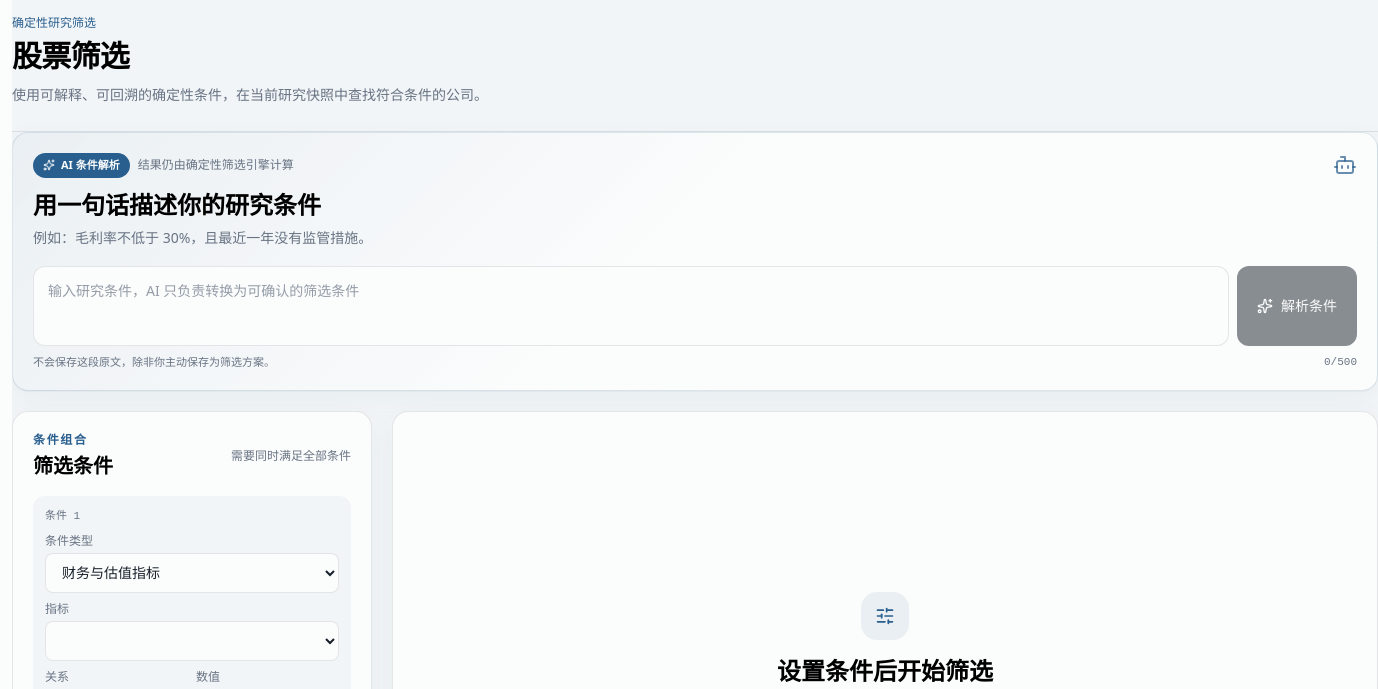
Test: ScreeningWorkspace › labels AI parsing separately and keeps the deterministic builder available
The width and height of the screenshot is (1378, 689).
In the text box named "自然语言筛选条件": coordinates (631, 306) [33,266,1229,346], type "毛利率不低于 30%"
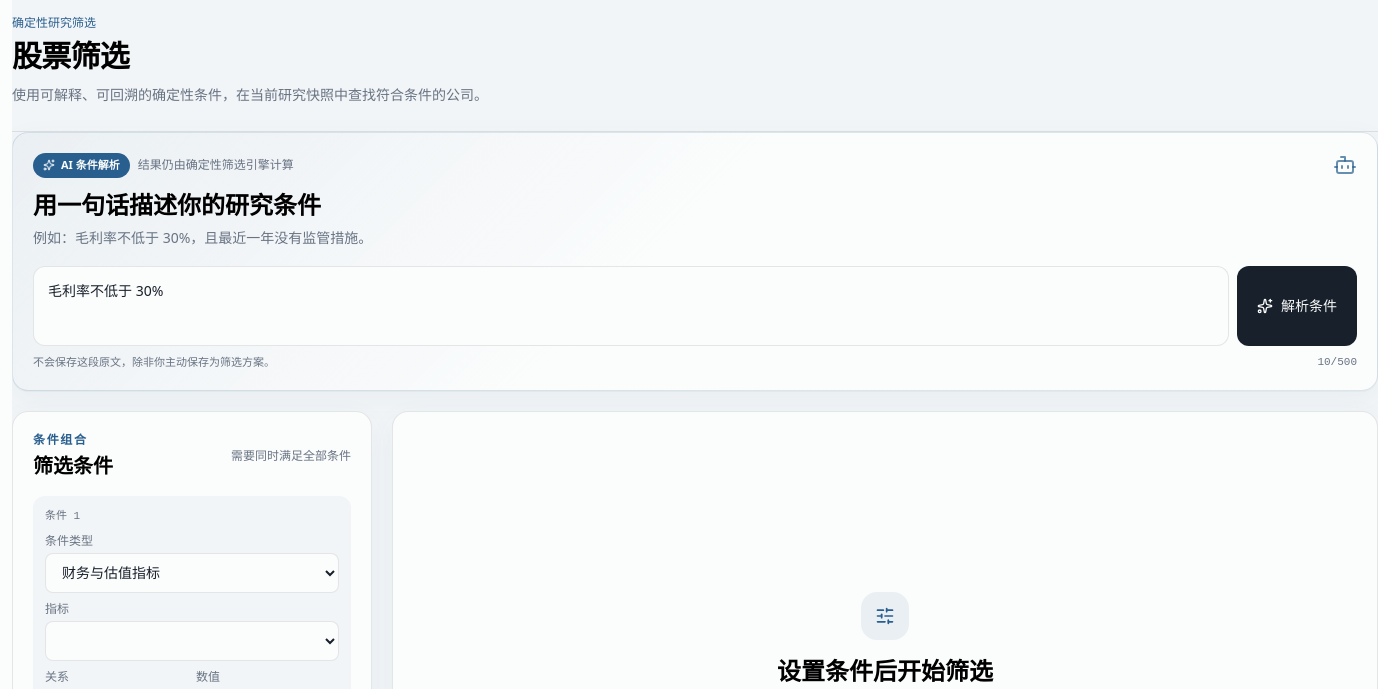
Click the button "解析条件": coordinates (1297, 306) [1237,266,1357,346]
(page scrolled)
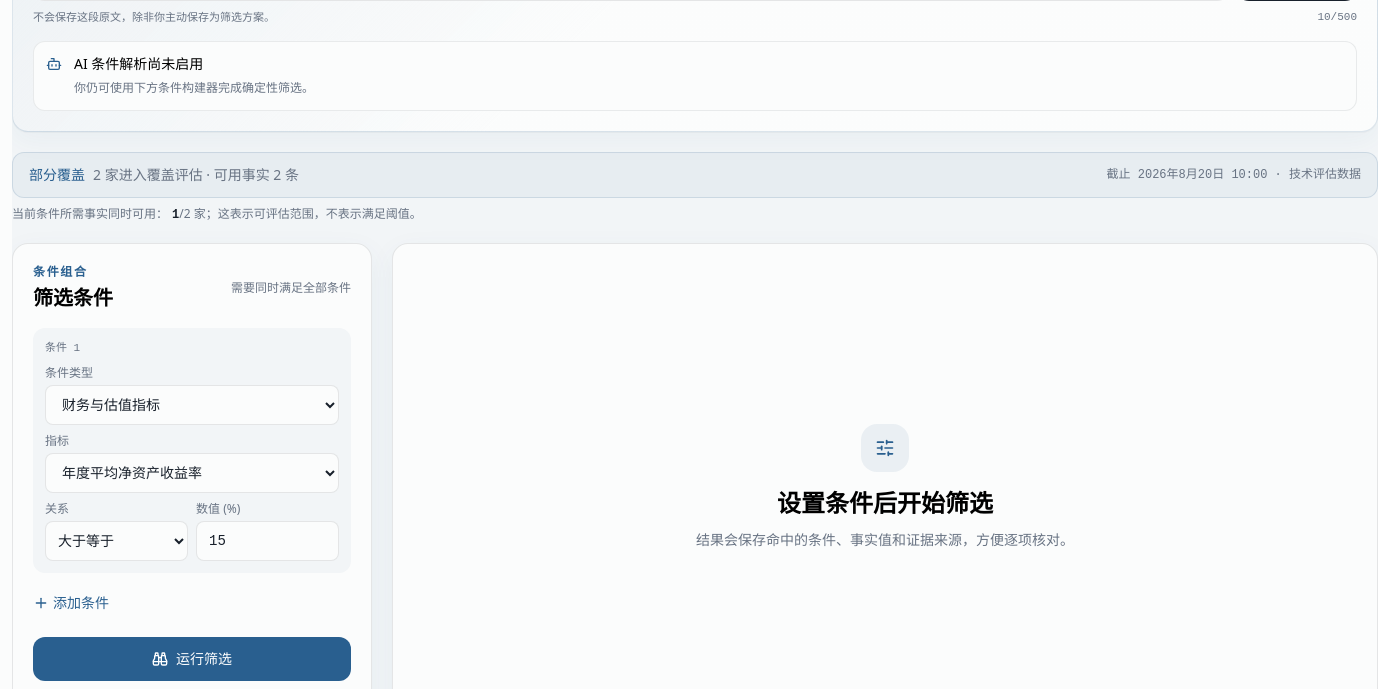
Expected: the button "运行筛选" is shown, [33,636,351,680]
Result: the text "AI 条件解析尚未启用" is shown at [74,54,203,73]
